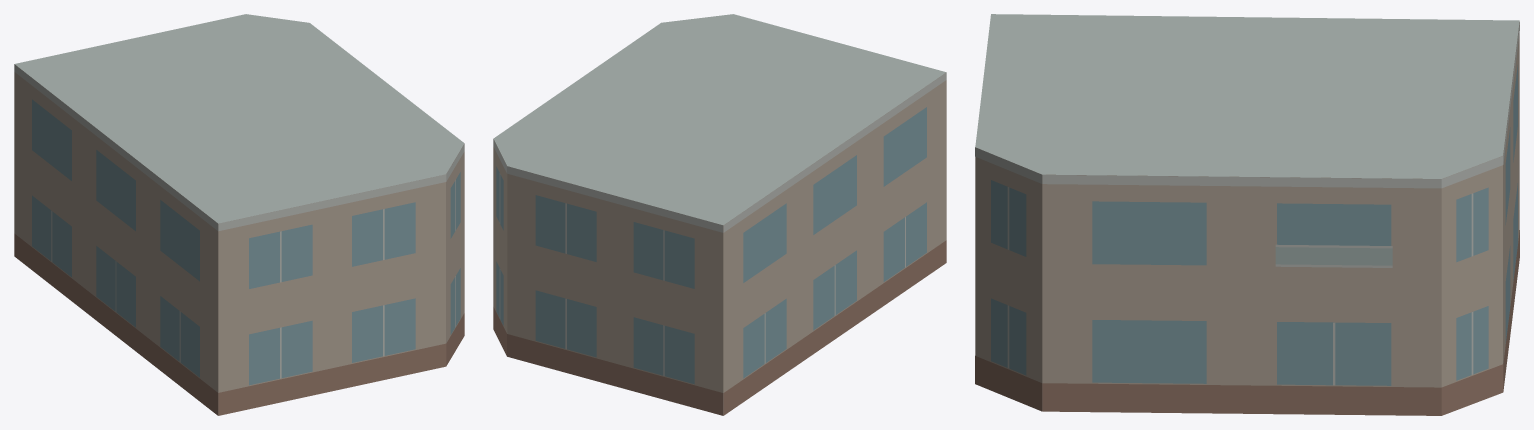
Rendered from survey-upis-32688458.glb.
3 renders of one model, left to right at view 1: azimuth 30°, elevation 25°; view 2: azimuth 150°, elevation 25°; view 3: azimuth 270°, elevation 25°, orthographic. The views are drawn at different scales.
Parts seen in each view (by area): view 1: survey-upis-32688458.tmp; view 2: survey-upis-32688458.tmp; view 3: survey-upis-32688458.tmp.
Boxes of the visible parts, <box> form: survey-upis-32688458.tmp: <box>14,14,464,415</box>; survey-upis-32688458.tmp: <box>493,14,946,415</box>; survey-upis-32688458.tmp: <box>975,14,1519,415</box>.
Bounding box in the file's own units: 9.13 × 6.1 × 12.72.
